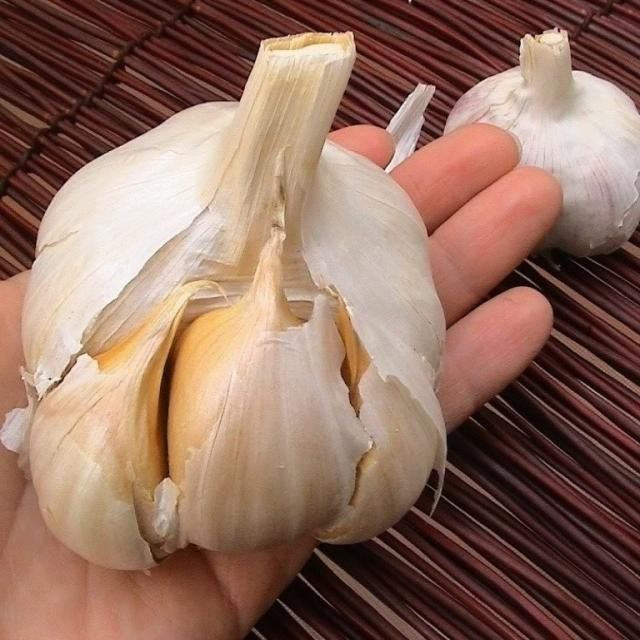garlic: (1, 33, 444, 568), (444, 28, 638, 255)
